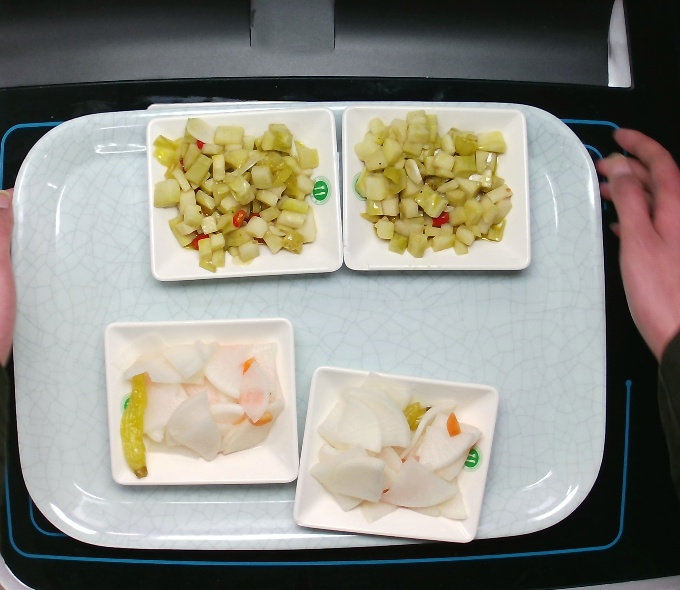wcq-LuLuoBo: (306, 370, 480, 523), (116, 335, 289, 476)
wcq-TangCuOu: (147, 114, 331, 266), (347, 106, 520, 258)
